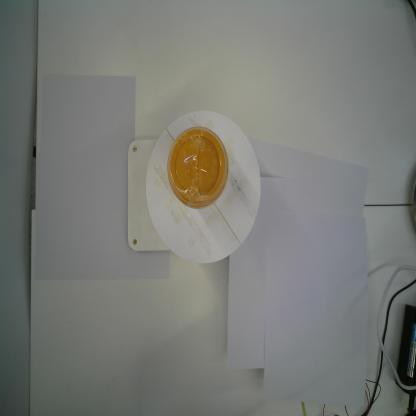Instant Drink: (167, 125, 229, 209)
